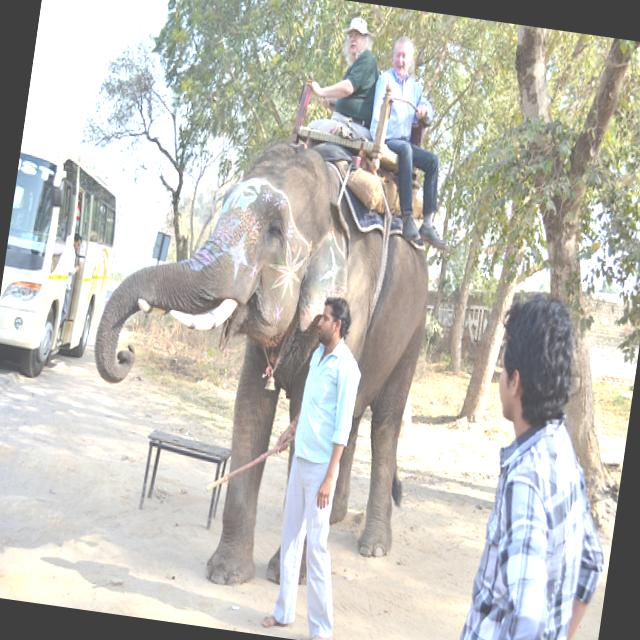Vehicle: (0, 128, 136, 397)
